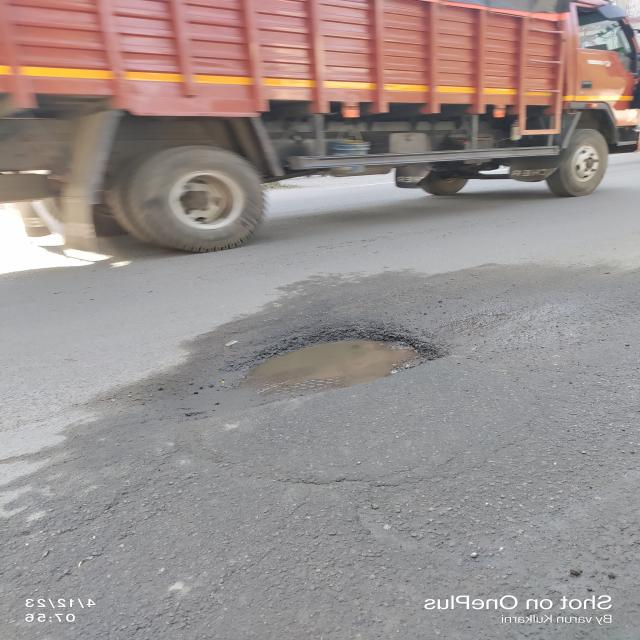Puddle pothole: (213, 317, 442, 393)
